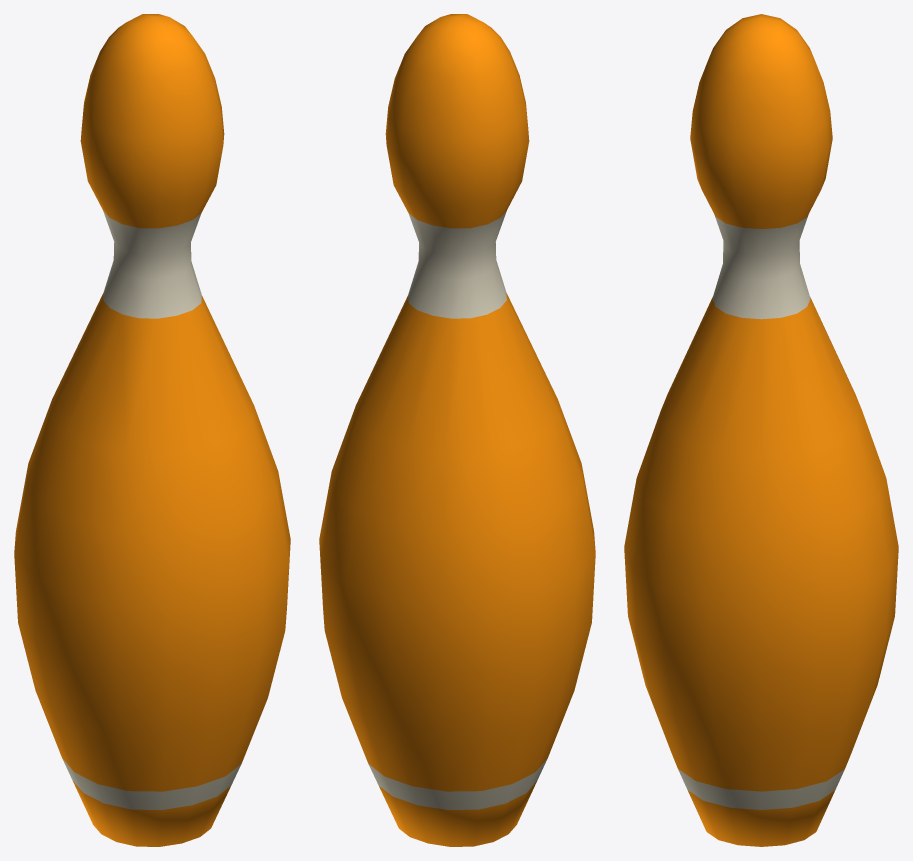
File: pin_orange.gltf
The picture shows the model from 3 angles, left to right: view 1: azimuth 30°, elevation 25°; view 2: azimuth 150°, elevation 25°; view 3: azimuth 270°, elevation 25°; orthographic projection.
Parts seen in each view (by area): view 1: pin.005; view 2: pin.005; view 3: pin.005.
Boxes of the visible parts, left/top/right/bottom form: pin.005: left=14, top=14, right=290, bottom=846; pin.005: left=319, top=14, right=595, bottom=846; pin.005: left=624, top=14, right=898, bottom=846.
Size of the model in its own units: 0.1176 by 0.38 by 0.1176.
Materials: 1 (1 with a texture image).
